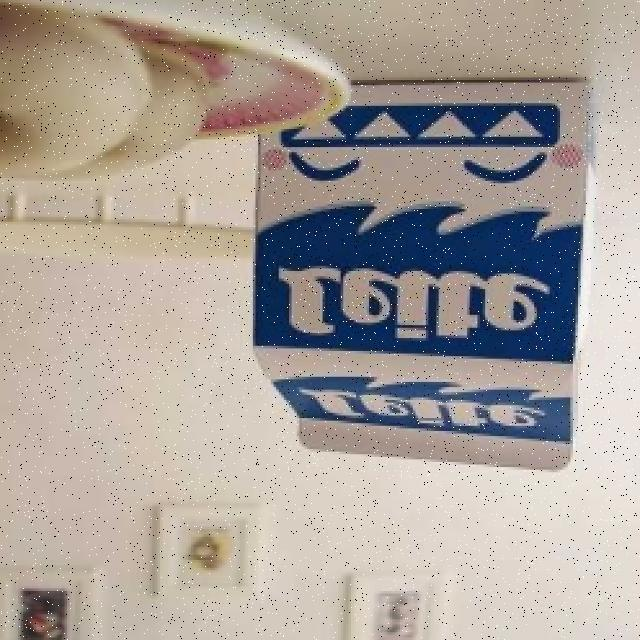box: (243, 59, 630, 457)
